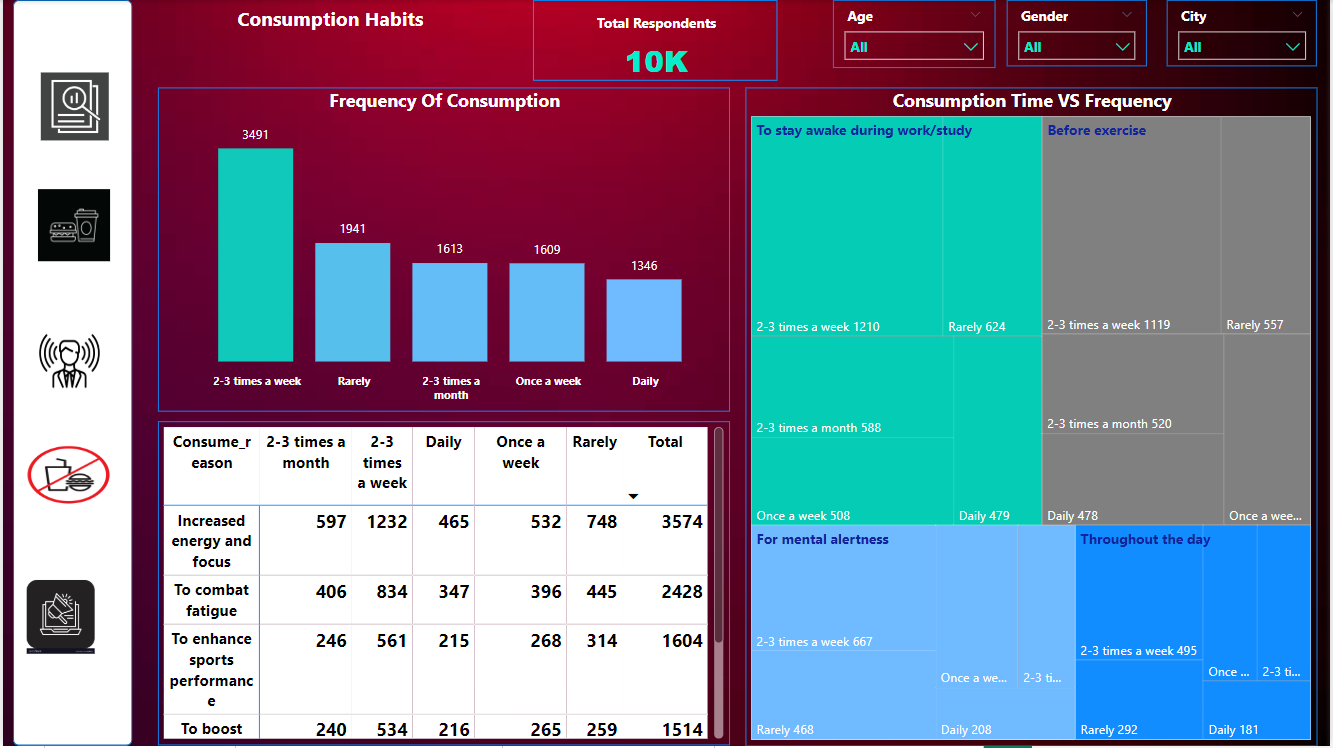

This screenshot's page, from the dashboard's own definition file:
{"tool":"powerbi","page":{"name":"Consumption Habits","canvas":[1280,720],"ordinal":1},"visuals":[{"type":"shape","box":[10,0,115.2,719.6],"z":0},{"type":"image","box":[29.9,310,68.3,76.8],"z":1000},{"type":"image","box":[15.6,423.8,95.3,69.7],"z":2000},{"type":"image","box":[15.6,65.4,106.7,75.4],"z":3000},{"type":"image","box":[12.8,554.7,85.3,81.1],"z":4000},{"type":"image","box":[28.4,176.4,79.6,82.5],"z":5000},{"type":"textbox","box":[125.2,0,381.2,65.4],"z":6000},{"type":"slicer","fields":{"Values":["dim_repondents.Age"]},"box":[800.7,0,156.4,65.4],"z":7000},{"type":"slicer","fields":{"Values":["dim_repondents.Gender"]},"box":[968.5,0,135.1,64],"z":8000},{"type":"slicer","fields":{"Values":["dim_cities.City"]},"box":[1123.6,0,145.1,64],"z":9000},{"type":"clusteredColumnChart","title":"Frequency Of Consumption","fields":{"Category":["fact_survey_responses.Consume_frequency"],"Y":["CountNonNull(fact_survey_responses.Consume_frequency)"]},"box":[149.3,83.9,551.8,312.9],"z":10000},{"type":"treemap","title":"Consumption Time VS Frequency","fields":{"Group":["fact_survey_responses.Consume_time"],"Details":["fact_survey_responses.Consume_frequency"],"Values":["CountNonNull(fact_survey_responses.Consume_frequency)"]},"box":[716.8,83.9,551.8,635.7],"z":11000},{"type":"pivotTable","title":"Frequency Of Consumption","fields":{"Values":["CountNonNull(fact_survey_responses.Consume_frequency)"],"Rows":["fact_survey_responses.Consume_reason"],"Columns":["fact_survey_responses.Consume_frequency"]},"box":[149.3,406.8,551.8,312.9],"z":12000},{"type":"cardVisual","fields":{"Data":["dim_repondents.Total Respondents"]},"box":[506.3,0,246,83.9],"z":13000}]}

Visuals, with their boxes in screenshot pixels (x1, y1, x2, y2), scaled from the page's 1280x720 canvas onto the 1333x748 screenshot:
shape: [x1=10, y1=0, x2=130, y2=747]
image: [x1=31, y1=322, x2=102, y2=402]
image: [x1=16, y1=440, x2=115, y2=513]
image: [x1=16, y1=68, x2=127, y2=146]
image: [x1=13, y1=576, x2=102, y2=661]
image: [x1=30, y1=183, x2=112, y2=269]
textbox: [x1=130, y1=0, x2=527, y2=68]
slicer - dim_repondents.Age: [x1=834, y1=0, x2=997, y2=68]
slicer - dim_repondents.Gender: [x1=1009, y1=0, x2=1149, y2=66]
slicer - dim_cities.City: [x1=1170, y1=0, x2=1321, y2=66]
"Frequency Of Consumption" clusteredColumnChart: [x1=155, y1=87, x2=730, y2=412]
"Consumption Time VS Frequency" treemap: [x1=746, y1=87, x2=1321, y2=747]
"Frequency Of Consumption" pivotTable: [x1=155, y1=423, x2=730, y2=747]
cardVisual - dim_repondents.Total Respondents: [x1=527, y1=0, x2=783, y2=87]
